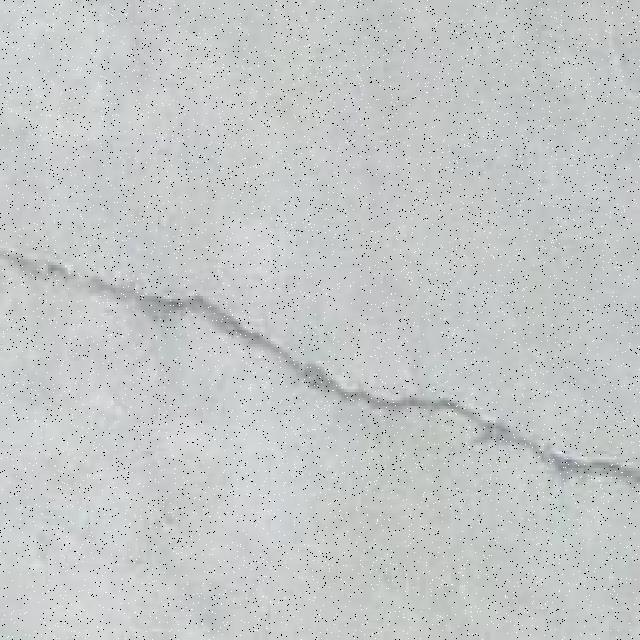minor crack: (4, 239, 636, 494)
moderate crack: (478, 419, 634, 486)
severe crack: (4, 243, 181, 313)
